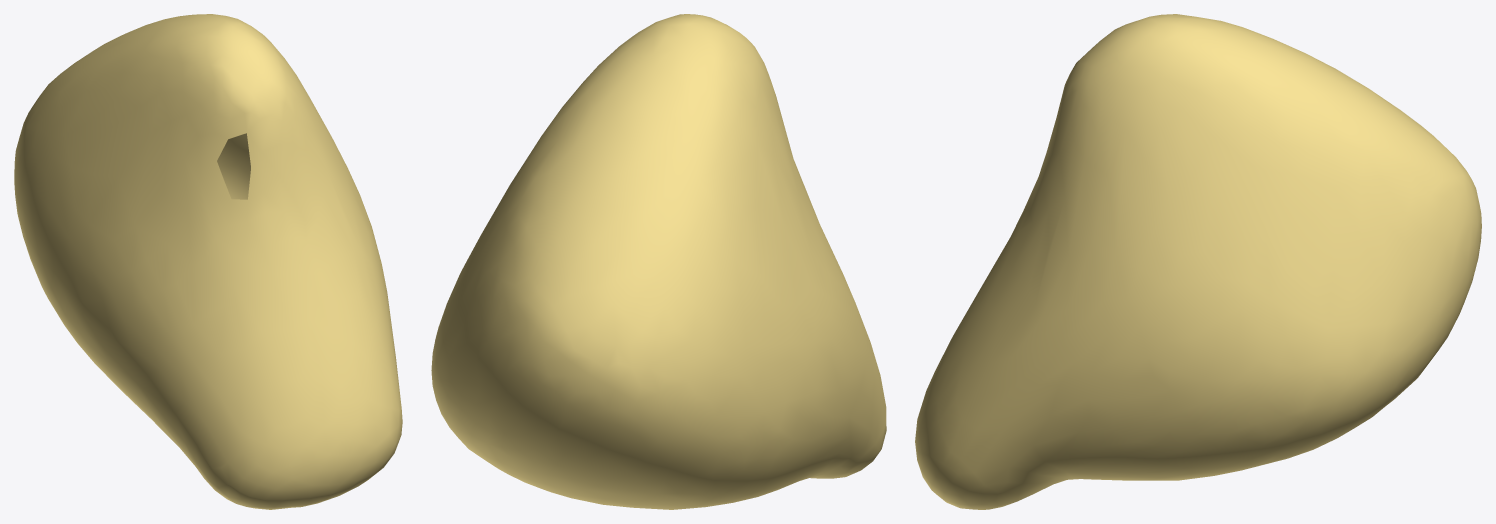
The picture shows the model from 3 angles, left to right: view 1: azimuth 30°, elevation 25°; view 2: azimuth 150°, elevation 25°; view 3: azimuth 270°, elevation 25°; orthographic projection. The views are drawn at different scales.
Visible parts, largest first — view 1: ZA_e7e6bdbad1935924; view 2: ZA_e7e6bdbad1935924; view 3: ZA_e7e6bdbad1935924.
Part boxes in pixels (<box>): ZA_e7e6bdbad1935924: <box>14,14,402,509</box>; ZA_e7e6bdbad1935924: <box>431,14,886,509</box>; ZA_e7e6bdbad1935924: <box>915,14,1481,509</box>.
Bounding box in the file's own units: 0.0121 × 0.0176 × 0.0191.
